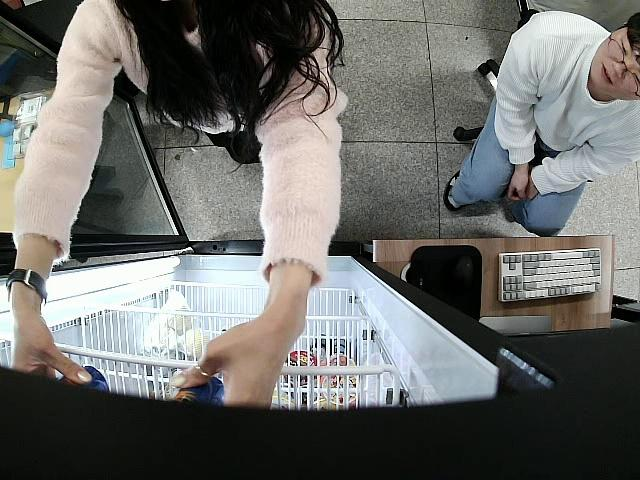00_hand: (169, 323, 304, 411), (9, 311, 93, 385)
16_hot6: (165, 373, 229, 407), (55, 363, 114, 399)
